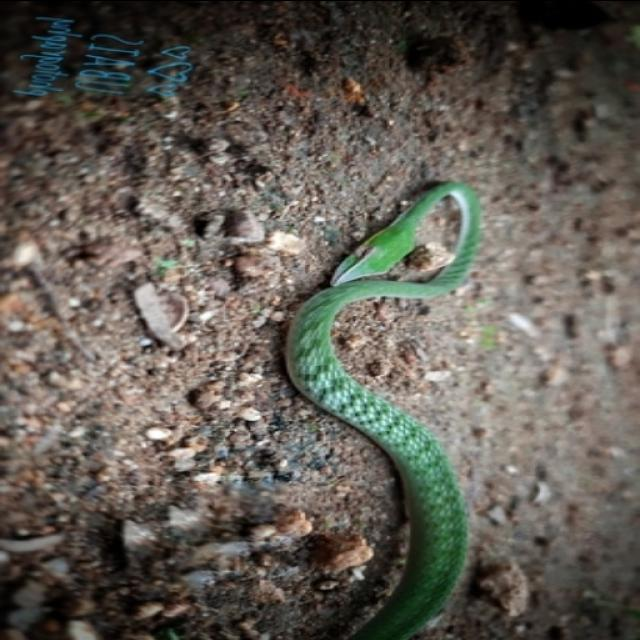snake: (272, 146, 494, 640)
